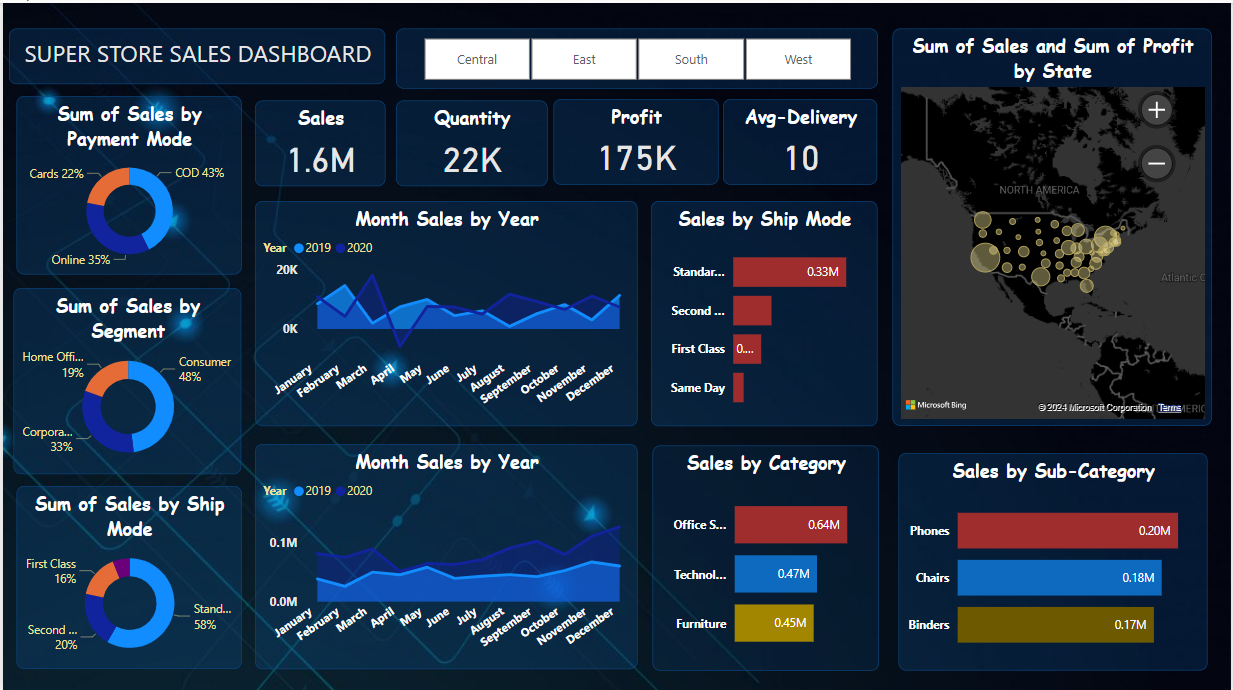

This screenshot's page, from the dashboard's own definition file:
{"tool":"powerbi","page":{"name":"Page 1","canvas":[1280,720],"ordinal":0},"visuals":[{"type":"clusteredBarChart","title":"Sales by Category","fields":{"Category":["SuperStore_Sales_Dataset.Category"],"Y":["Sum(SuperStore_Sales_Dataset.Sales)"]},"box":[676.8,461.1,236,234.4],"z":0},{"type":"clusteredBarChart","title":"Sales by Sub-Category","fields":{"Category":["SuperStore_Sales_Dataset.Sub-Category"],"Y":["Sum(SuperStore_Sales_Dataset.Sales)"]},"box":[933.1,468.9,322,226.6],"z":1000},{"type":"clusteredBarChart","title":"Sales by Ship Mode","fields":{"Y":["Sum(SuperStore_Sales_Dataset.Sales)"],"Category":["SuperStore_Sales_Dataset.Ship Mode"]},"box":[675.2,206.3,236,234.4],"z":2000},{"type":"areaChart","title":" Month Sales by Year","fields":{"Y":["Sum(SuperStore_Sales_Dataset.Sales)"],"Series":["SuperStore_Sales_Dataset.Order Date.Variation.Date Hierarchy.Year"],"Category":["SuperStore_Sales_Dataset.Order Date.Variation.Date Hierarchy.Month","SuperStore_Sales_Dataset.Order Date.Variation.Date Hierarchy.Day"]},"box":[262.6,459.5,398.6,234.4],"z":3000},{"type":"areaChart","title":" Month Sales by Year","fields":{"Series":["SuperStore_Sales_Dataset.Order Date.Variation.Date Hierarchy.Year"],"Category":["SuperStore_Sales_Dataset.Order Date.Variation.Date Hierarchy.Month","SuperStore_Sales_Dataset.Order Date.Variation.Date Hierarchy.Day"],"Y":["Sum(SuperStore_Sales_Dataset.Profit)"]},"box":[262.6,206.3,398.6,234.4],"z":4000},{"type":"map","fields":{"Category":["SuperStore_Sales_Dataset.State"],"Size":["Sum(SuperStore_Sales_Dataset.Sales)"]},"box":[926.9,26.6,332.9,414.2],"z":5000},{"type":"donutChart","fields":{"Category":["SuperStore_Sales_Dataset.Segment"],"Y":["Sum(SuperStore_Sales_Dataset.Sales)"]},"box":[10.9,297,237.6,193.8],"z":6000},{"type":"donutChart","fields":{"Y":["Sum(SuperStore_Sales_Dataset.Sales)"],"Category":["SuperStore_Sales_Dataset.Payment Mode"]},"box":[14.1,96.9,234.4,186],"z":7000},{"type":"donutChart","fields":{"Y":["Sum(SuperStore_Sales_Dataset.Sales)"],"Category":["SuperStore_Sales_Dataset.Ship Mode"]},"box":[14.1,503.3,234.4,190.7],"z":8000},{"type":"slicer","fields":{"Values":["SuperStore_Sales_Dataset.Region"]},"box":[409.5,26.6,501.7,62.5],"z":9000},{"type":"textbox","box":[6.3,26.6,392.3,57.8],"z":10000},{"type":"card","title":"Sales","fields":{"Values":["Sum(SuperStore_Sales_Dataset.Sales)"]},"box":[262.6,101.6,136,89.1],"z":11000},{"type":"card","title":"Quantity","fields":{"Values":["Sum(SuperStore_Sales_Dataset.Quantity)"]},"box":[409.5,101.6,157.9,89.1],"z":12000},{"type":"card","title":"Profit","fields":{"Values":["Sum(SuperStore_Sales_Dataset.Profit)"]},"box":[573.6,100,171.9,89.1],"z":13000},{"type":"card","title":"Avg-Delivery","fields":{"Values":["Avg(SuperStore_Sales_Dataset.Avg-Delivery)"]},"box":[750.2,100,161,89.1],"z":14000}]}

Visuals, with their boxes in screenshot pixels (x1, y1, x2, y2), scaled from the page's 1280x720 canvas onto the 1233x690 screenshot:
"Sales by Category" clusteredBarChart: <bbox>652, 442, 879, 667</bbox>
"Sales by Sub-Category" clusteredBarChart: <bbox>899, 449, 1209, 667</bbox>
"Sales by Ship Mode" clusteredBarChart: <bbox>650, 198, 878, 422</bbox>
" Month Sales by Year" areaChart: <bbox>253, 440, 637, 665</bbox>
" Month Sales by Year" areaChart: <bbox>253, 198, 637, 422</bbox>
map - SuperStore_Sales_Dataset.State x Sum(SuperStore_Sales_Dataset.Sales): <bbox>893, 25, 1214, 422</bbox>
donutChart - SuperStore_Sales_Dataset.Segment x Sum(SuperStore_Sales_Dataset.Sales): <bbox>10, 285, 239, 470</bbox>
donutChart - Sum(SuperStore_Sales_Dataset.Sales) x SuperStore_Sales_Dataset.Payment Mode: <bbox>14, 93, 239, 271</bbox>
donutChart - Sum(SuperStore_Sales_Dataset.Sales) x SuperStore_Sales_Dataset.Ship Mode: <bbox>14, 482, 239, 665</bbox>
slicer - SuperStore_Sales_Dataset.Region: <bbox>394, 25, 878, 85</bbox>
textbox: <bbox>6, 25, 384, 81</bbox>
"Sales" card: <bbox>253, 97, 384, 183</bbox>
"Quantity" card: <bbox>394, 97, 547, 183</bbox>
"Profit" card: <bbox>553, 96, 718, 181</bbox>
"Avg-Delivery" card: <bbox>723, 96, 878, 181</bbox>
